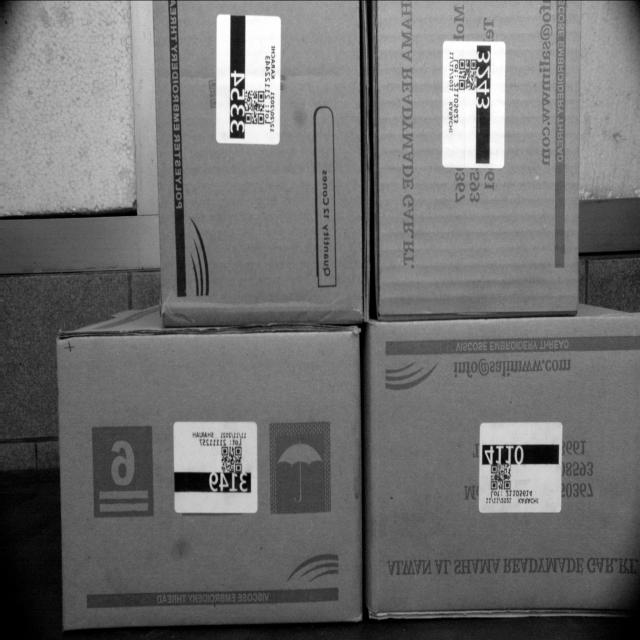cardboxes: (61, 332, 362, 626), (370, 320, 640, 613), (156, 0, 366, 318), (373, 1, 578, 319)
